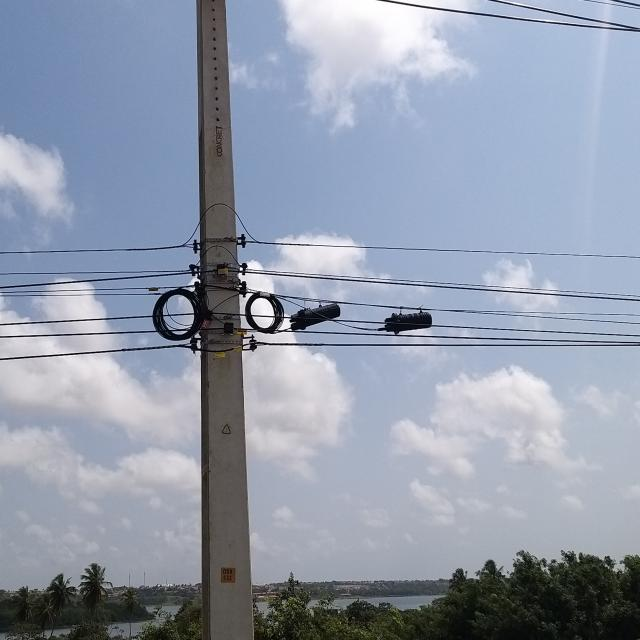Plaqueta: (202, 319, 210, 329)
